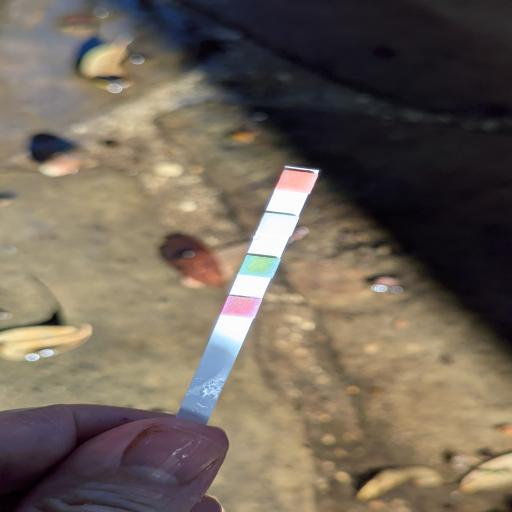strip: (174, 166, 322, 427)
